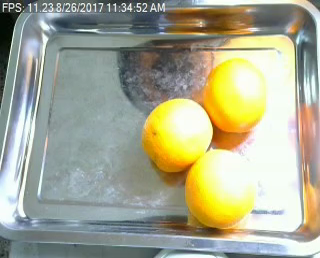Orange: (183, 148, 259, 228), (142, 97, 213, 172), (202, 59, 269, 133)
